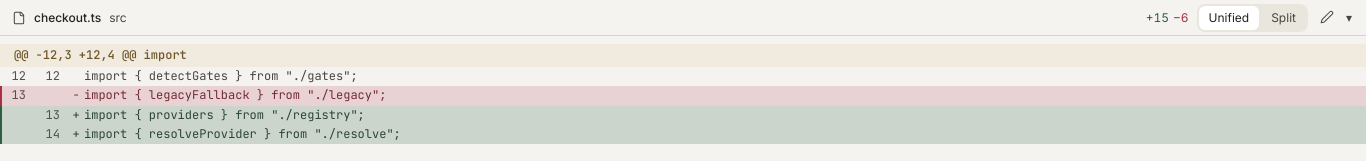
Test case: DiffTab › starts unified, and the toggle switches the layout
Expected: the number of elements with class "diff-tab-line" is 4, [12,68,358,84]; [0,86,1365,106]; [0,106,1365,125]; [0,125,1365,144]
Expected: the number of elements with class "diff-tab-hunk" is 1, [0,44,1365,67]
Click the button with class "diff-tab-seg-button" showing "Split": (1284, 18) [1261,6,1306,30]
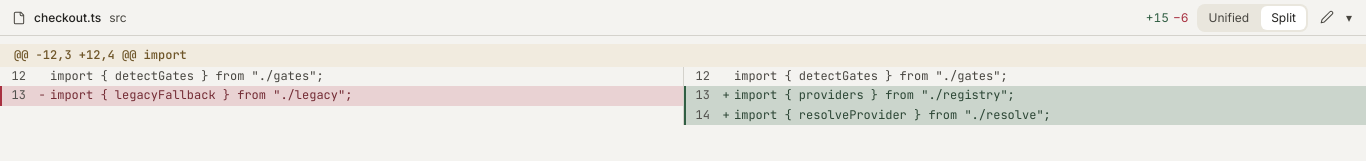
Now no elements with class "diff-tab-line" are shown
Now the number of elements with class "diff-tab-split-row" is 3, box [0,67,1365,86]; [0,86,1365,106]; [683,106,1365,125]
